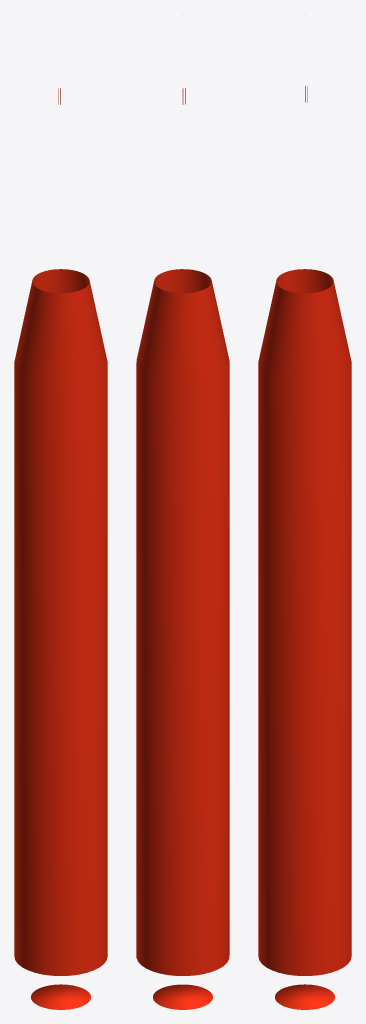
The model's file is rocket.obj7.obj.
3 views of the same model, side by side, from view 1: azimuth 90°, elevation 25°; view 2: azimuth 150°, elevation 25°; view 3: azimuth 270°, elevation 25° (orthographic).
Parts seen in each view (by area): view 1: obj7; view 2: obj7; view 3: obj7.
Boxes of the visible parts, box(x1,y1,x2,y2) form: obj7: box(14, 88, 107, 1009); obj7: box(136, 88, 229, 1009); obj7: box(258, 85, 351, 1009).
Bounding box in the file's own units: 2.83 × 32.91 × 2.83.
